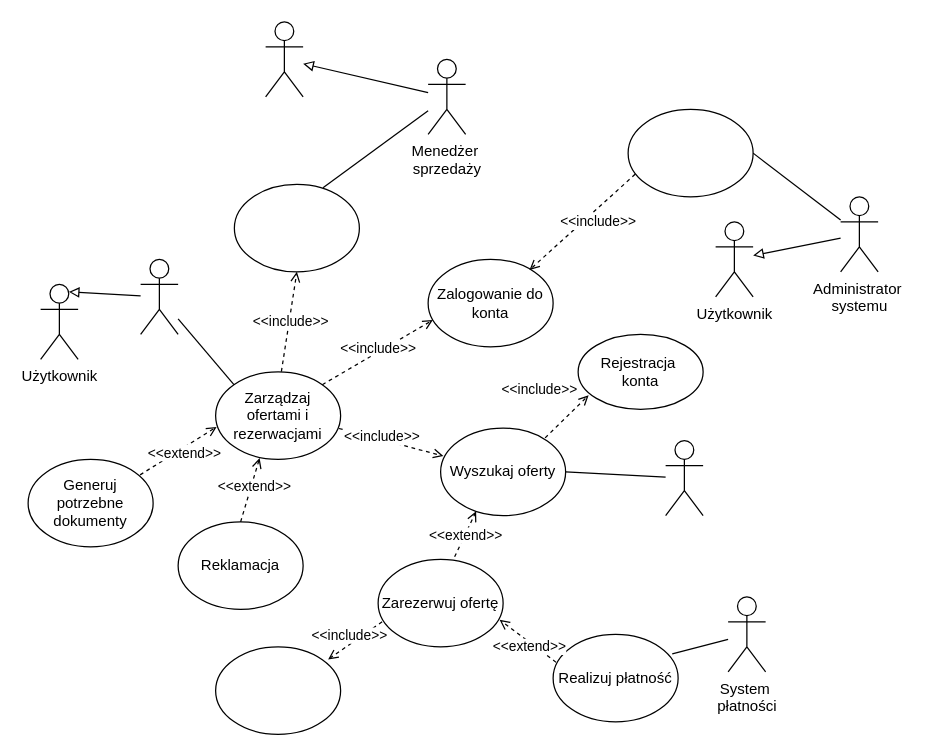
This 928x756 diagram has some shape labels left out. The shapes that lost their labels are listed below. From the top down, each one's centre as x and y in pixels, then its label:
At (x=283, y=59): "Dostawcy usług turystycznych".
At (x=690, y=152): "Zarządzaj systemem".
At (x=296, y=227): "Optymalizuj i twórz ofertę".
At (x=158, y=296): "Agent biura podróży".
At (x=683, y=477): "Klient".
At (x=277, y=690): "Śledź rezerwację".
